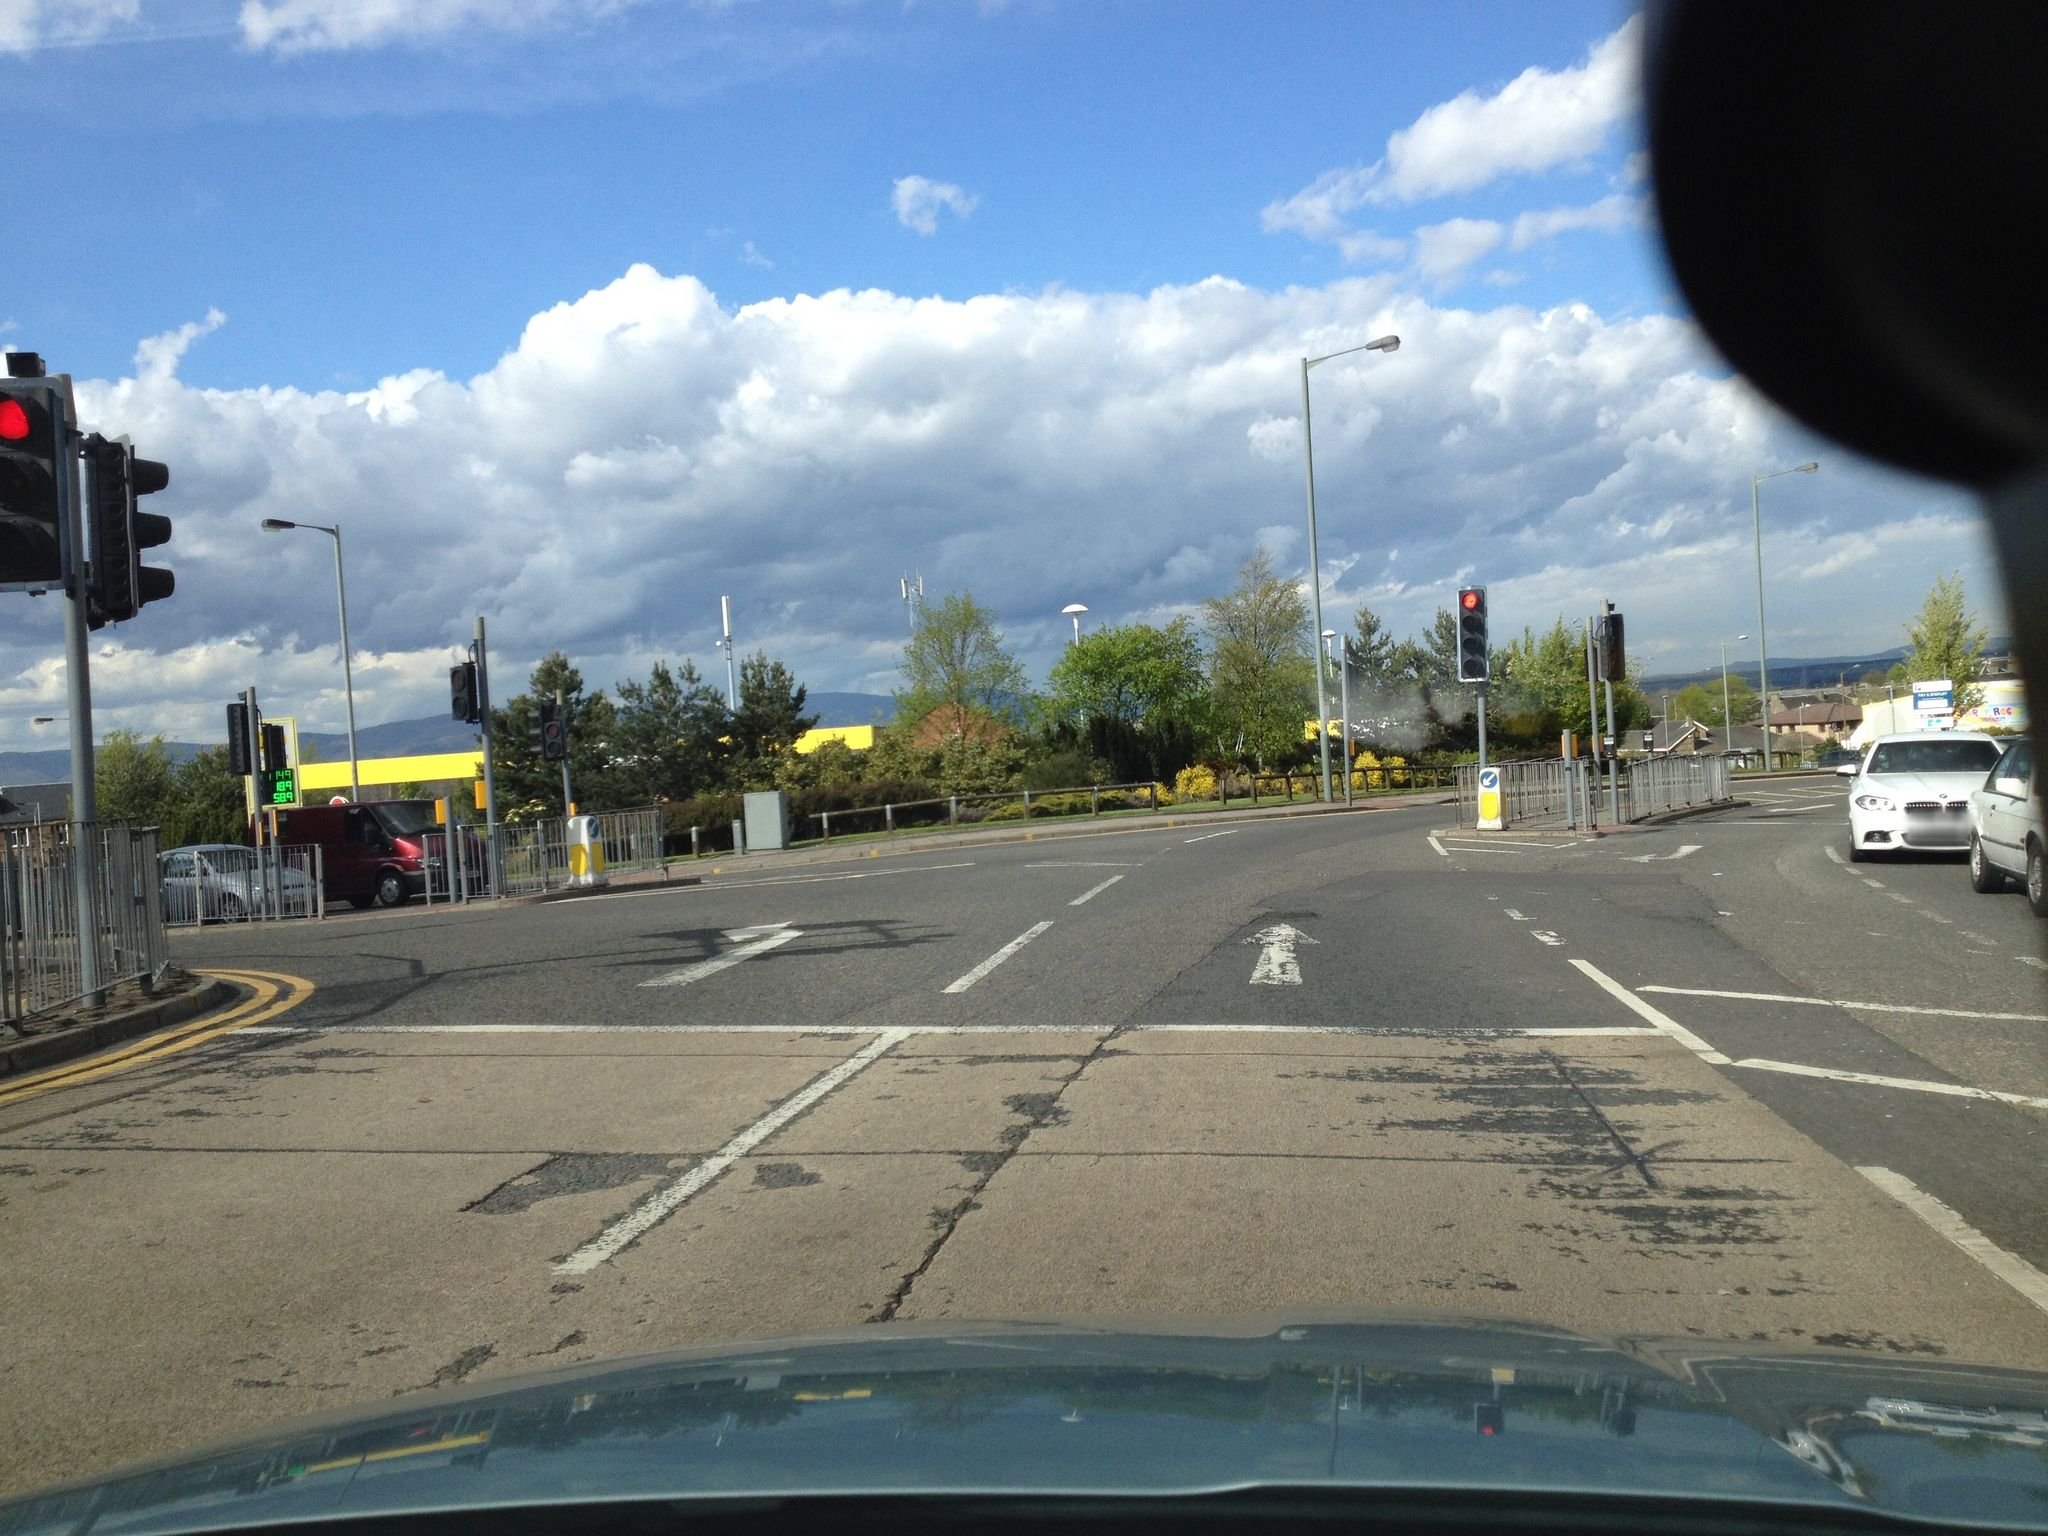car: (248, 799, 490, 910), (1837, 731, 2006, 860), (1967, 733, 2048, 920), (147, 841, 323, 925)
